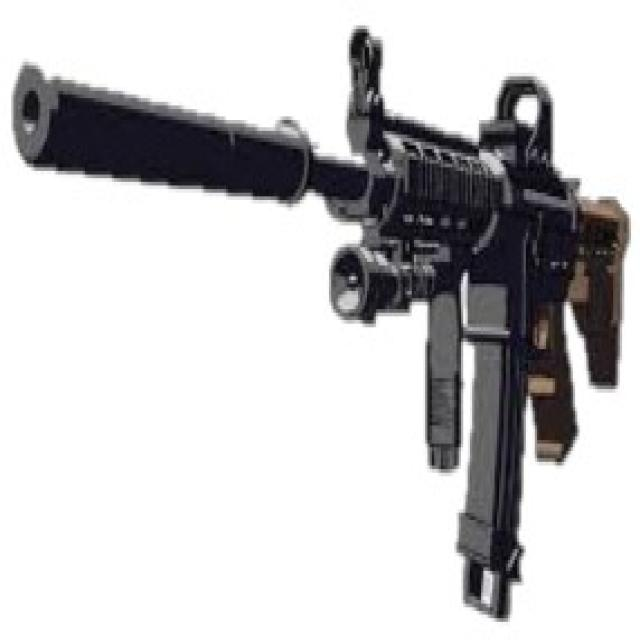rifle: (9, 15, 635, 628)
